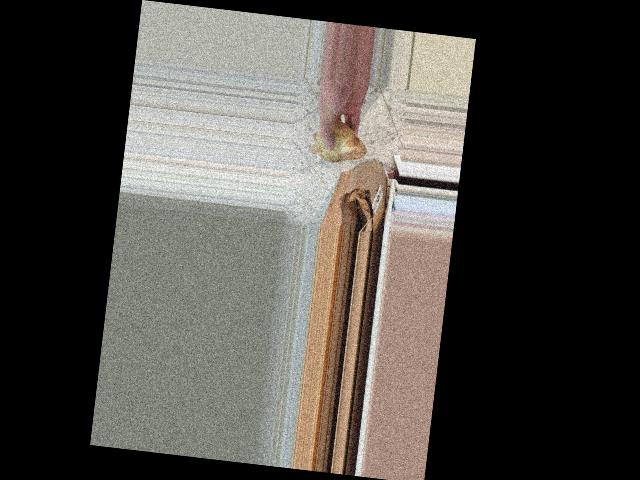onion: (309, 114, 367, 171)
